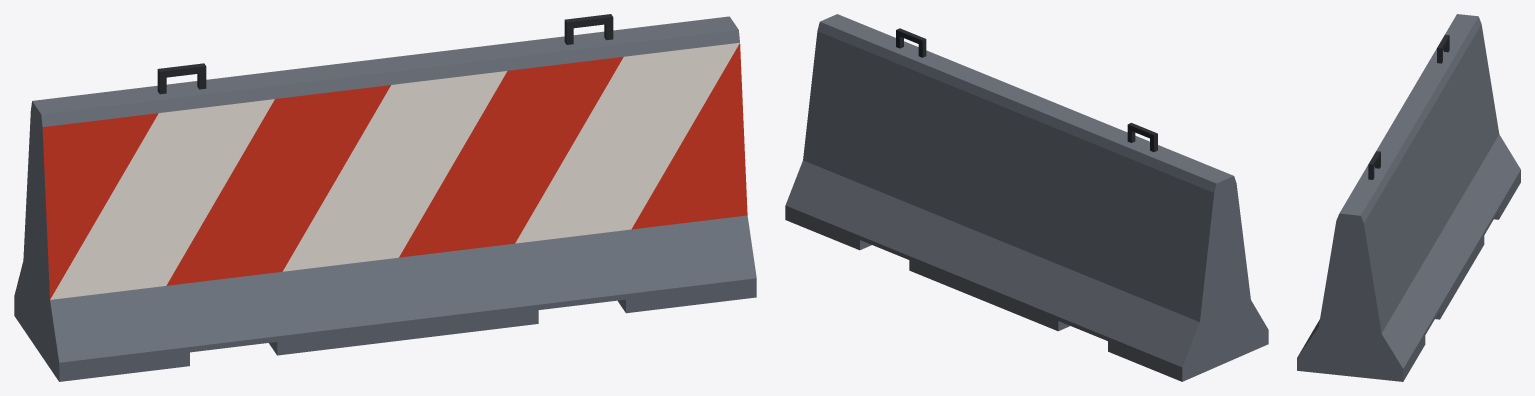
File: safety barrier.fbx
3 renders of one model, left to right at view 1: azimuth 30°, elevation 25°; view 2: azimuth 150°, elevation 25°; view 3: azimuth 270°, elevation 25°, orthographic. The views are drawn at different scales.
Parts seen in each view (by area): view 1: Safety_Barrier_Body; view 2: Safety_Barrier_Body; view 3: Safety_Barrier_Body.
Boxes of the visible parts, x1,y1,x2,y2 form: Safety_Barrier_Body: [14, 16, 756, 381]; Safety_Barrier_Body: [785, 14, 1268, 381]; Safety_Barrier_Body: [1297, 14, 1520, 381].
Bounding box in the file's own units: 246 × 96.2 × 110.
